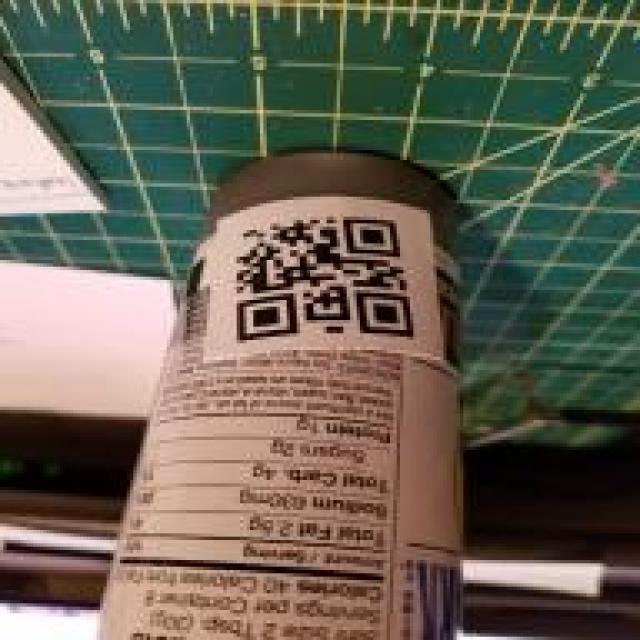qr_code: (236, 216, 413, 342)
